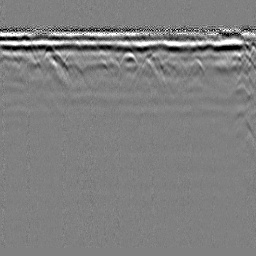cavity: (119, 48, 140, 68)
